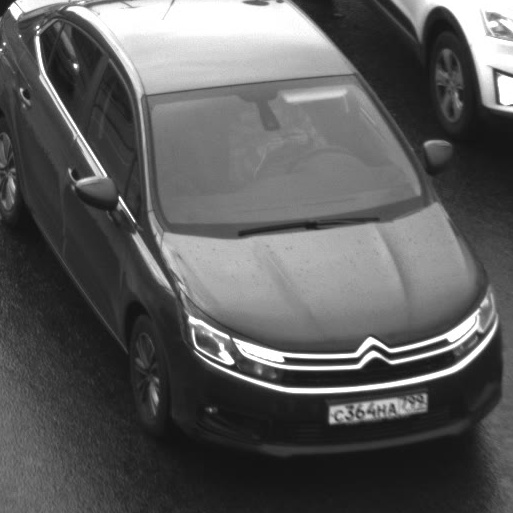plate: (317, 381, 435, 431)
